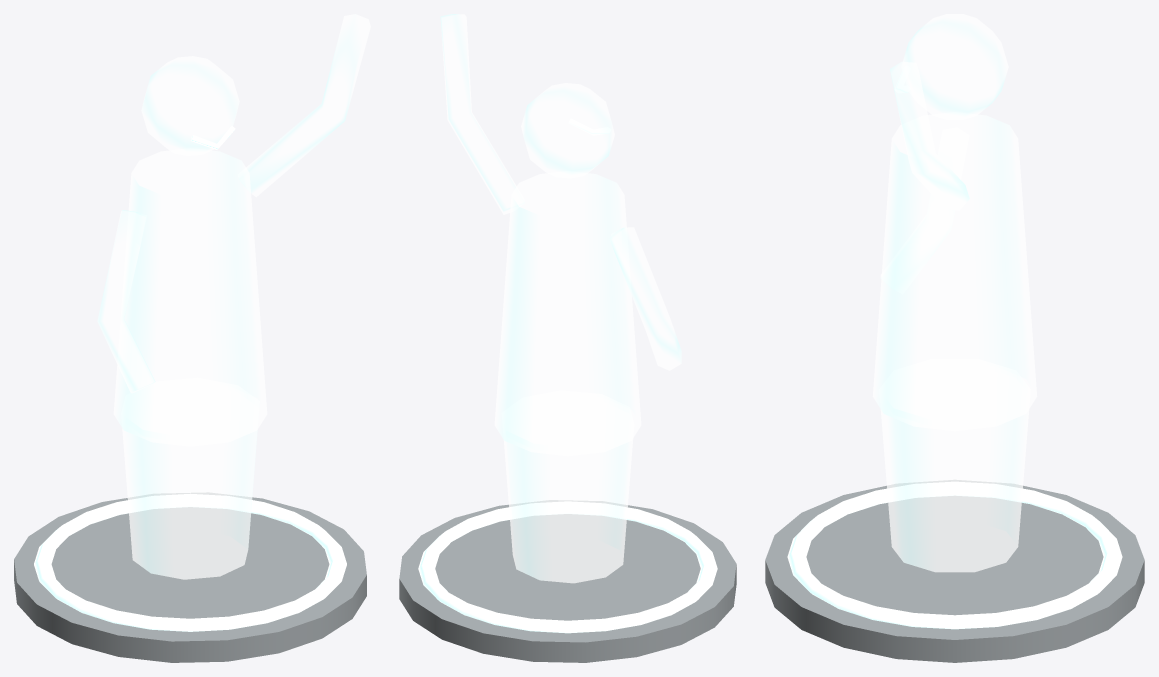
Rendered from an_holo.glb.
The picture shows the model from 3 angles, left to right: view 1: azimuth 30°, elevation 25°; view 2: azimuth 150°, elevation 25°; view 3: azimuth 270°, elevation 25°; orthographic projection. The views are drawn at different scales.
Parts seen in each view (by area): view 1: an_holo; view 2: an_holo; view 3: an_holo.
Part boxes in pixels (<box>): an_holo: <box>14,14,370,662</box>; an_holo: <box>399,14,736,662</box>; an_holo: <box>765,14,1144,662</box>.
Bounding box in the file's own units: 1.21 × 2.06 × 1.2.
